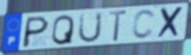C: (131, 8, 157, 41)
P: (20, 15, 51, 49)
Q: (50, 13, 75, 46)
T: (107, 10, 129, 44)
U: (77, 11, 104, 44)
X: (156, 5, 185, 40)
